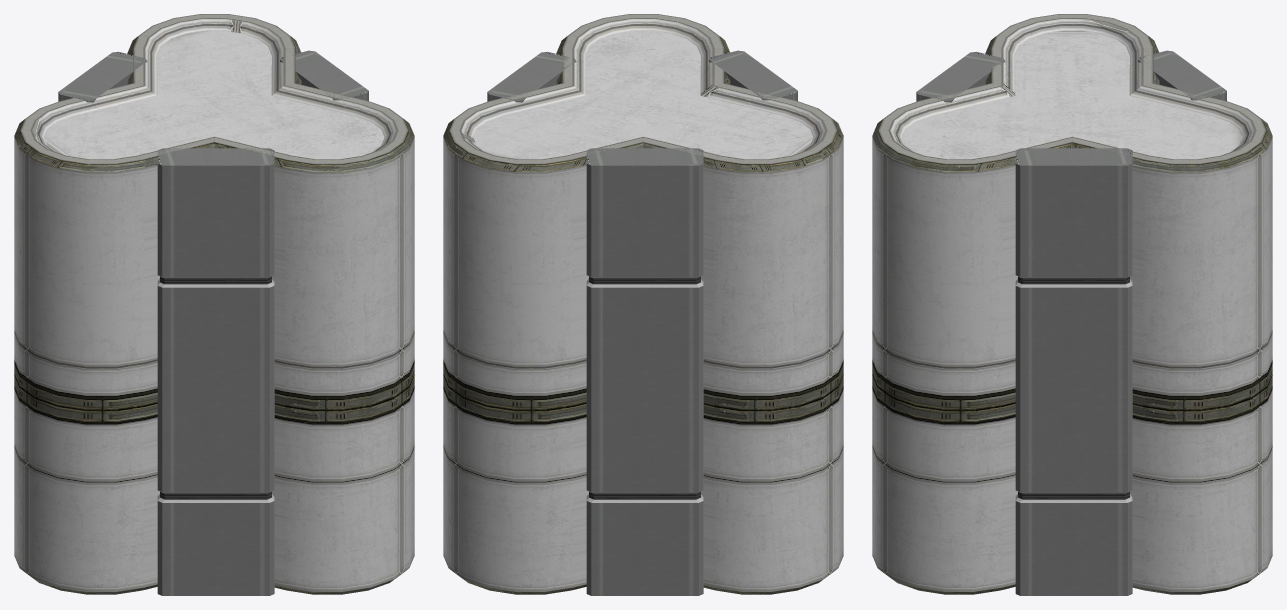
The model's file is Club_StripMid_02.FBX.
3 renders of one model, left to right at view 1: azimuth 30°, elevation 25°; view 2: azimuth 150°, elevation 25°; view 3: azimuth 270°, elevation 25°, orthographic.
Visible parts, largest first — view 1: Club_StripMid_02; view 2: Club_StripMid_02; view 3: Club_StripMid_02.
Boxes of the visible parts, x1,y1,x2,y2 form: Club_StripMid_02: (14, 14, 414, 595); Club_StripMid_02: (443, 14, 843, 595); Club_StripMid_02: (872, 14, 1272, 595).
Size of the model in its own units: 1.55 by 2 by 1.69.
